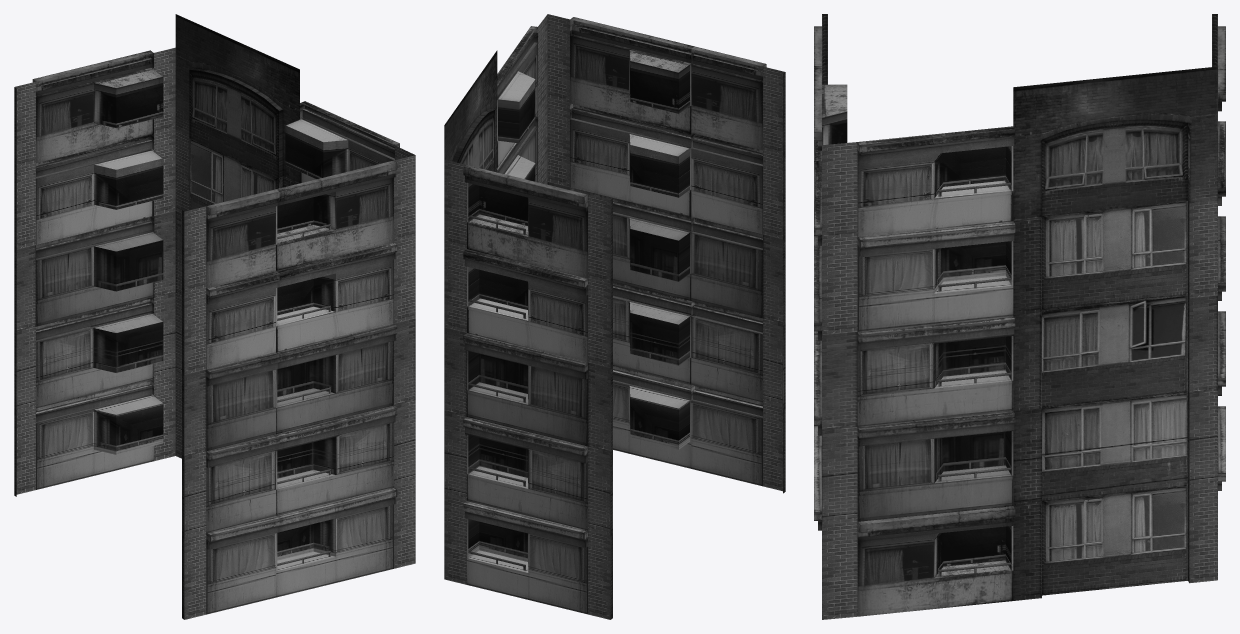
File: skidrow_building_5.fbx
3 views of the same model, side by side, from view 1: azimuth 30°, elevation 25°; view 2: azimuth 150°, elevation 25°; view 3: azimuth 270°, elevation 25° (orthographic). The views are drawn at different scales.
Visible parts, largest first — view 1: skidrow_building_5; view 2: skidrow_building_5; view 3: skidrow_building_5.
Boxes of the visible parts, left/top/right/bottom form: skidrow_building_5: left=14, top=14, right=415, bottom=619; skidrow_building_5: left=444, top=14, right=785, bottom=619; skidrow_building_5: left=814, top=14, right=1225, bottom=619.
Bounding box in the file's own units: 779 × 1422 × 1032.
